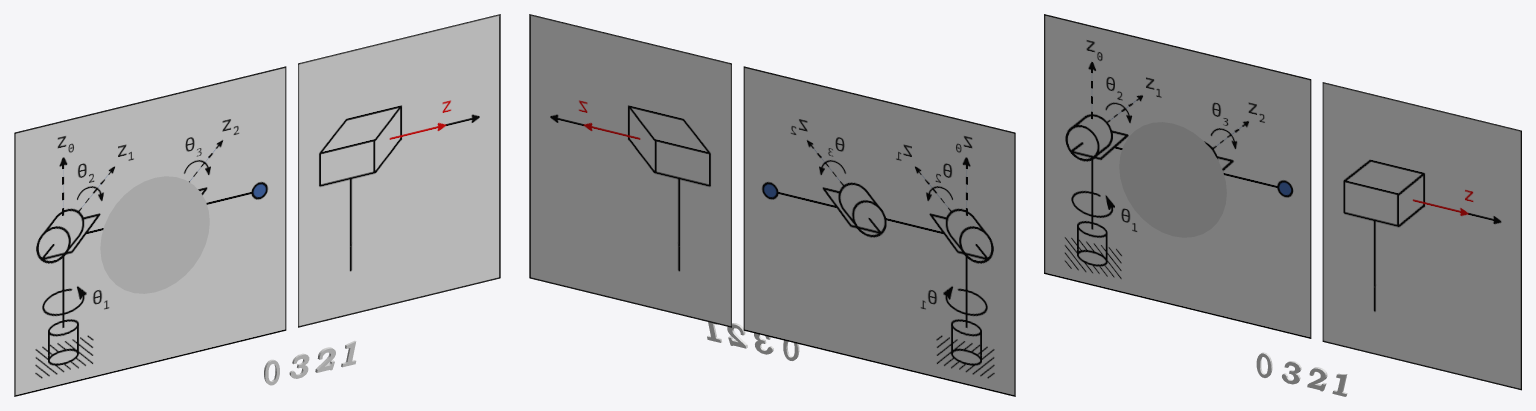
File: 3-10p_모빌리티 정기구학.fbx
3 views of the same model, side by side, from view 1: azimuth 30°, elevation 25°; view 2: azimuth 150°, elevation 25°; view 3: azimuth 330°, elevation 25° (orthographic).
Visible parts, largest first — view 1: RobotJointRealization1, RobotJointRealization2, PlacementPosition; view 2: RobotJointRealization1, RobotJointRealization2; view 3: RobotJointRealization1, RobotJointRealization2, PlacementPosition.
Boxes of the visible parts, left/top/right/bottom form: RobotJointRealization1: left=14, top=66, right=286, bottom=396; RobotJointRealization2: left=298, top=14, right=500, bottom=327; PlacementPosition: left=100, top=176, right=209, bottom=293; RobotJointRealization1: left=743, top=66, right=1015, bottom=396; RobotJointRealization2: left=529, top=14, right=731, bottom=327; RobotJointRealization1: left=1044, top=14, right=1311, bottom=338; RobotJointRealization2: left=1322, top=82, right=1521, bottom=390; PlacementPosition: left=1119, top=122, right=1226, bottom=237.
Bounding box in the file's own units: 233 × 137 × 14.52.
